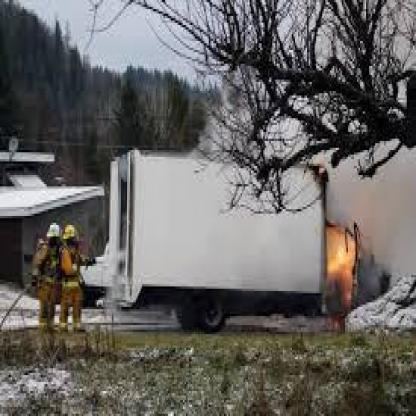fire: (310, 203, 368, 310)
